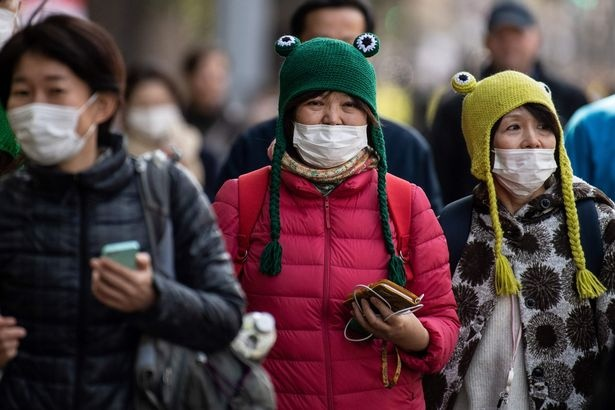with_incorrect_mask: (277, 45, 378, 172), (483, 100, 562, 196)
